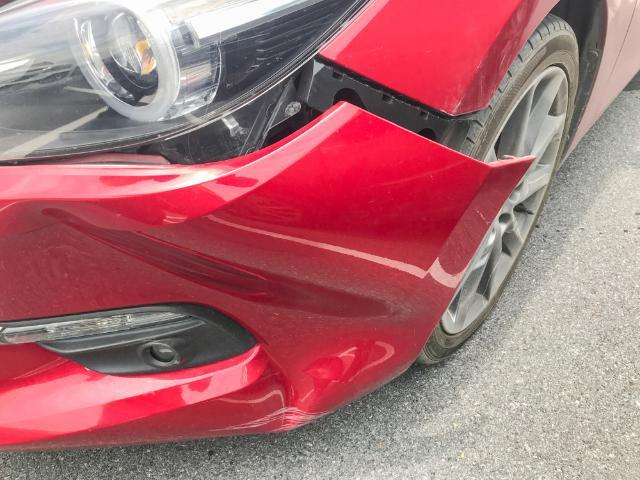dent: (59, 218, 389, 432)
dislocated part: (0, 58, 532, 449)
